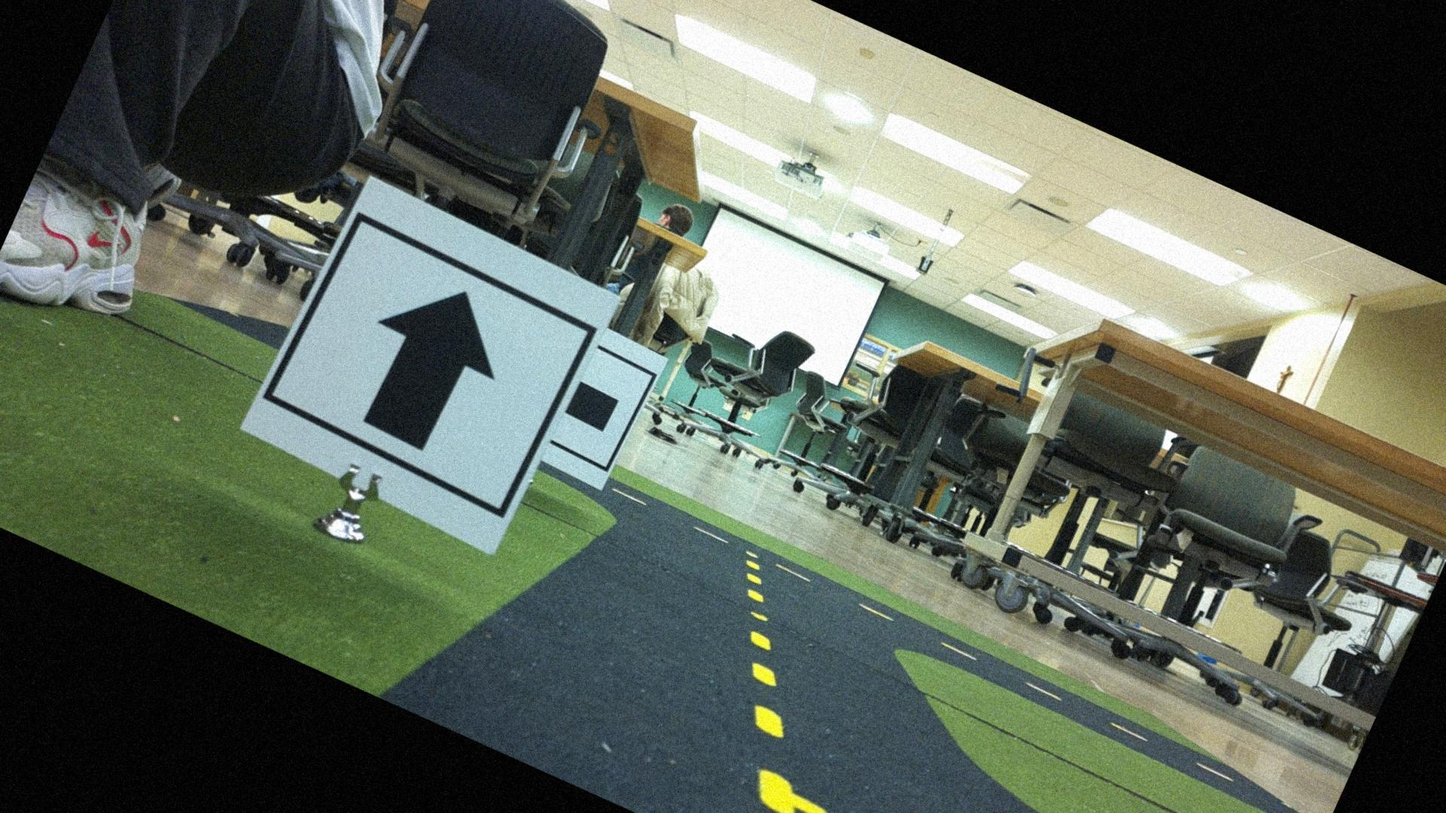gostraight: (252, 186, 605, 543)
yellowline: (653, 547, 886, 812)
